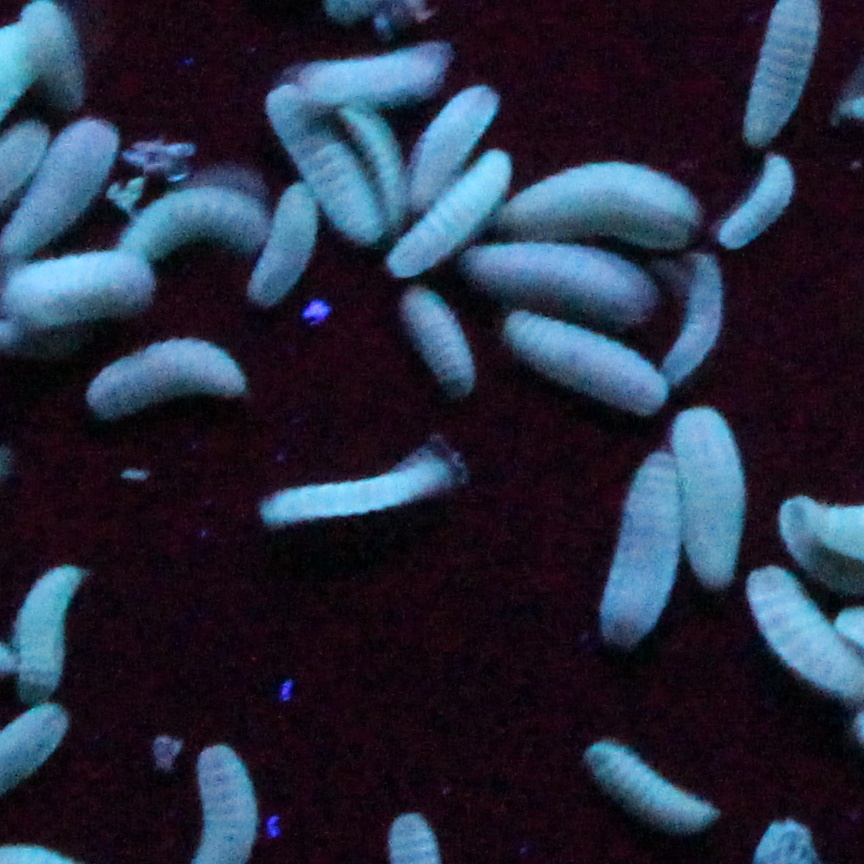larve: (264, 89, 376, 238), (394, 153, 517, 285), (527, 163, 705, 253), (5, 118, 111, 265), (468, 246, 660, 326), (270, 450, 464, 526), (668, 402, 746, 585), (599, 453, 668, 648), (521, 328, 664, 416), (94, 342, 246, 420), (588, 740, 713, 828), (125, 187, 264, 265), (419, 85, 497, 206), (13, 555, 82, 685), (296, 38, 448, 97), (256, 173, 323, 295), (719, 157, 797, 253), (346, 100, 403, 230), (672, 269, 723, 377)
